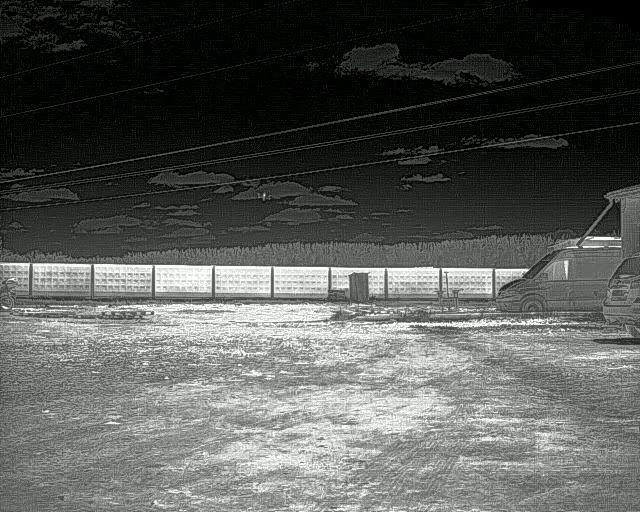drone-thermal: (256, 190, 273, 202)
